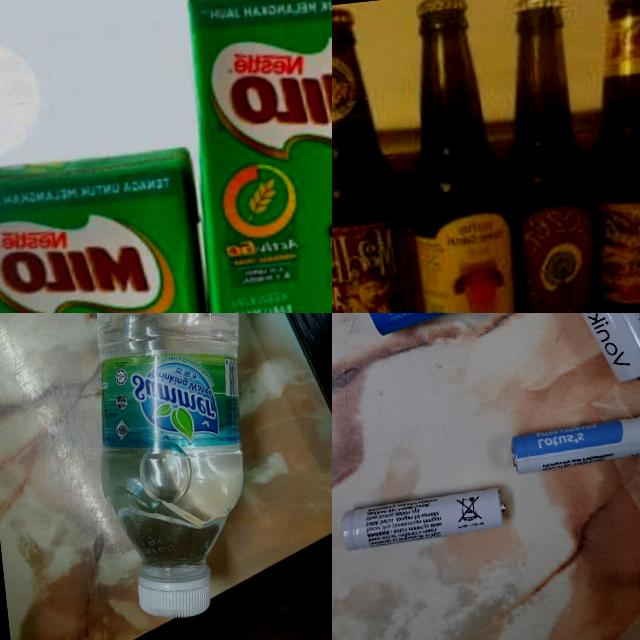bateria: (337, 484, 510, 552), (507, 410, 640, 475), (533, 313, 640, 391), (357, 313, 554, 336)
caixinha: (169, 0, 332, 313), (0, 141, 220, 313)
garrafa de vidro: (385, 0, 529, 313), (482, 0, 616, 313), (332, 0, 424, 313), (568, 0, 640, 313)
garrafa plástica: (62, 313, 277, 584)
tampa plástica: (132, 558, 215, 622)
